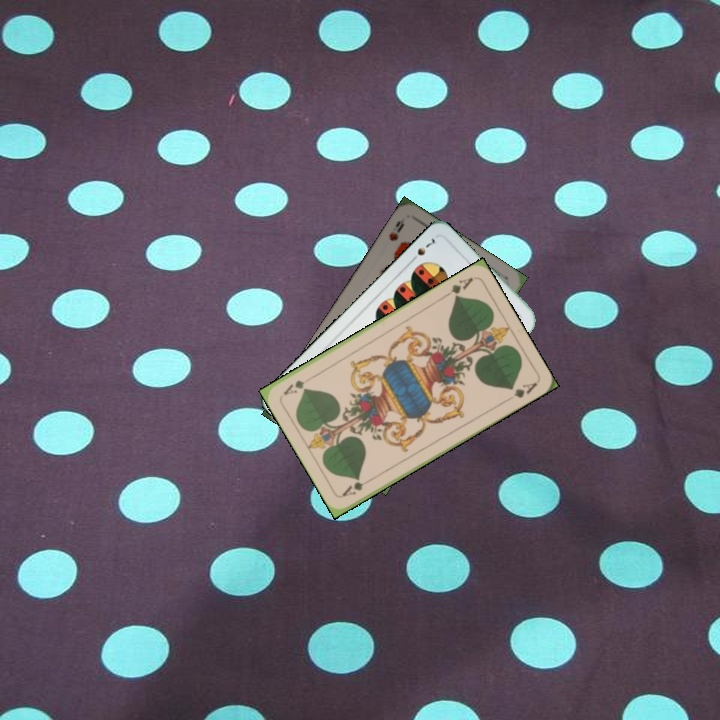GA: (440, 273, 476, 301), (338, 474, 376, 500)
H9: (384, 217, 407, 244)
S7: (406, 234, 438, 265)
